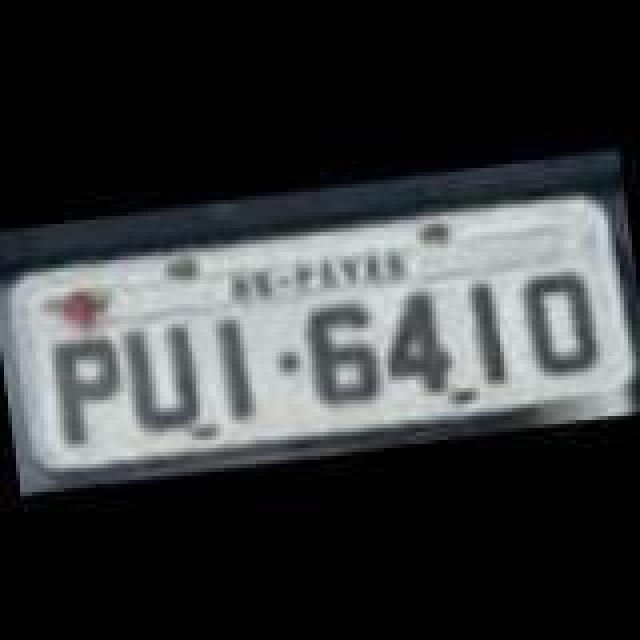1: (462, 272, 514, 388), (214, 314, 266, 426)
4: (376, 284, 464, 400)
6: (302, 298, 386, 410)
O: (516, 266, 604, 382)
P: (46, 332, 130, 452)
U: (124, 316, 212, 436)
